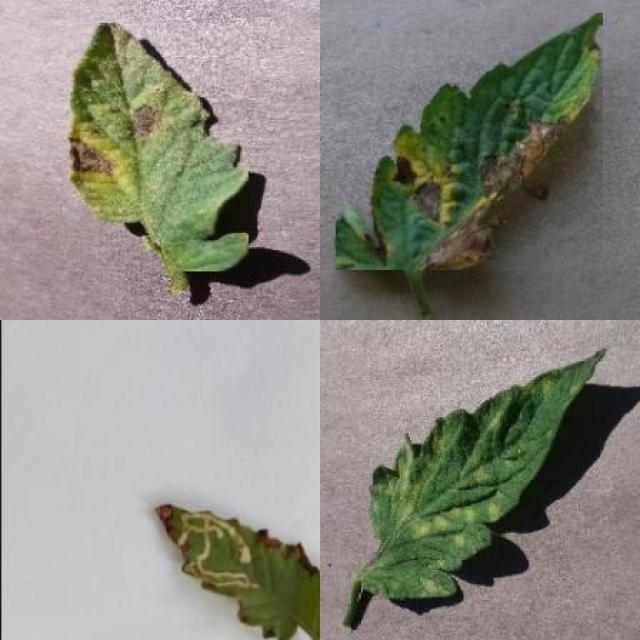Early Blight: (336, 13, 603, 270), (67, 22, 249, 272)
Leaf Miner: (151, 503, 320, 640)
Leaf Mold: (366, 348, 604, 600)
